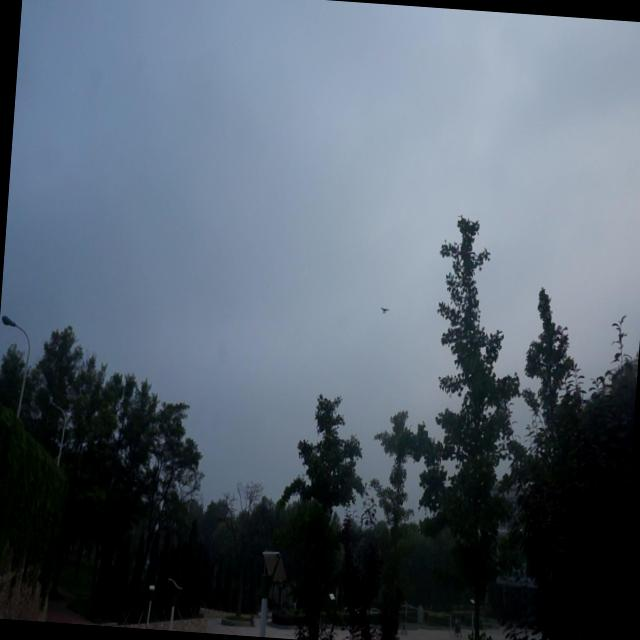drone: (378, 302, 389, 316)
